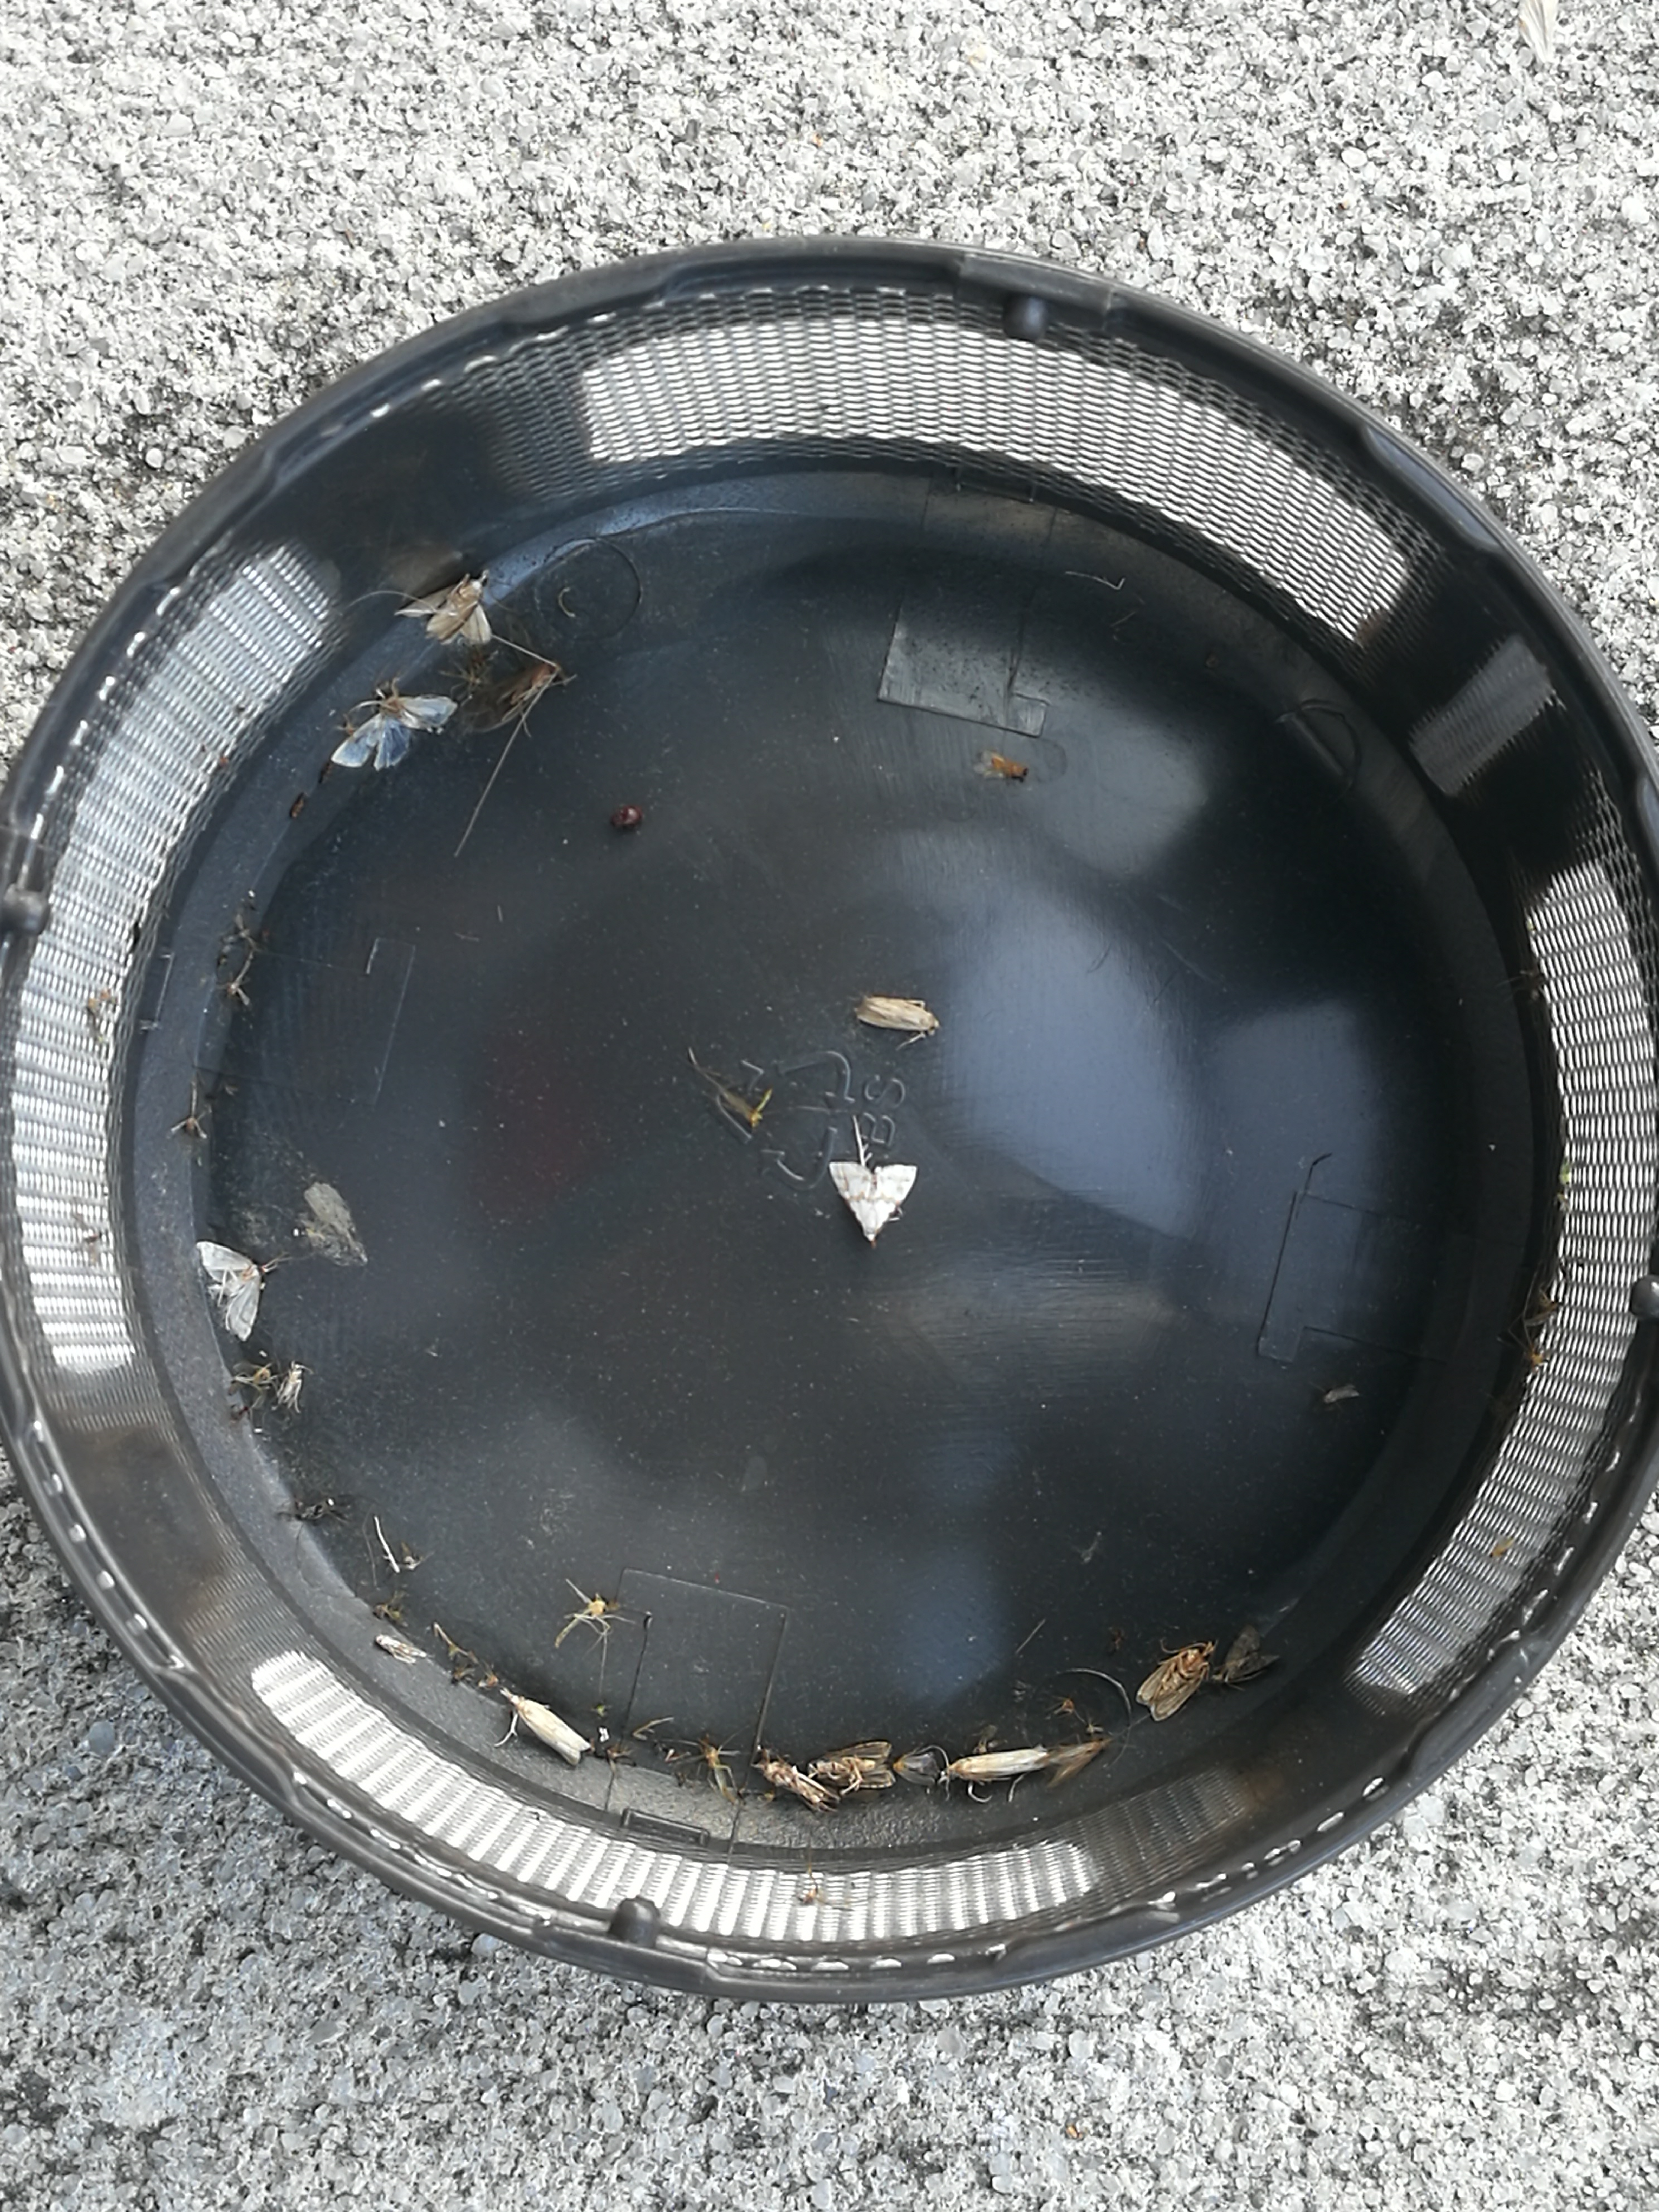mosquito: (505, 1693, 592, 1766), (464, 664, 551, 732), (943, 1747, 1047, 1777), (856, 998, 939, 1031), (1051, 1740, 1107, 1785)
moth: (333, 695, 457, 770), (394, 571, 493, 643), (828, 1160, 915, 1240), (197, 1240, 258, 1339), (1138, 1642, 1211, 1719), (810, 1742, 892, 1787), (1216, 1625, 1279, 1681)
